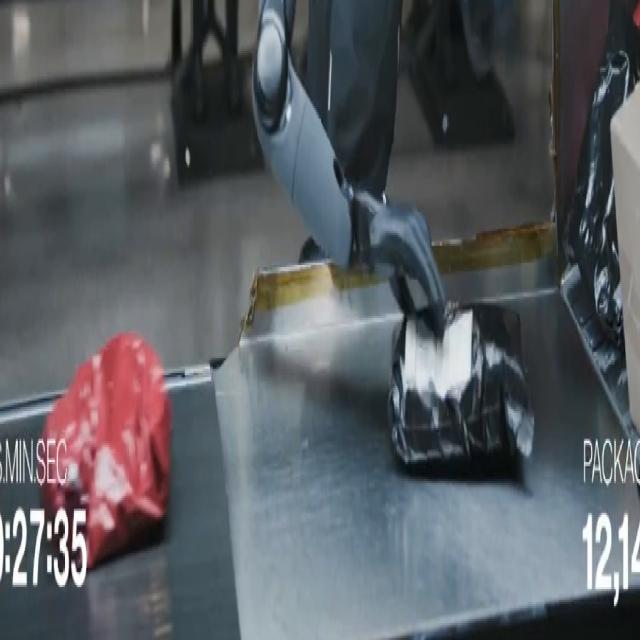package: (41, 333, 171, 570), (564, 0, 638, 345), (388, 304, 534, 468), (611, 90, 639, 430)
